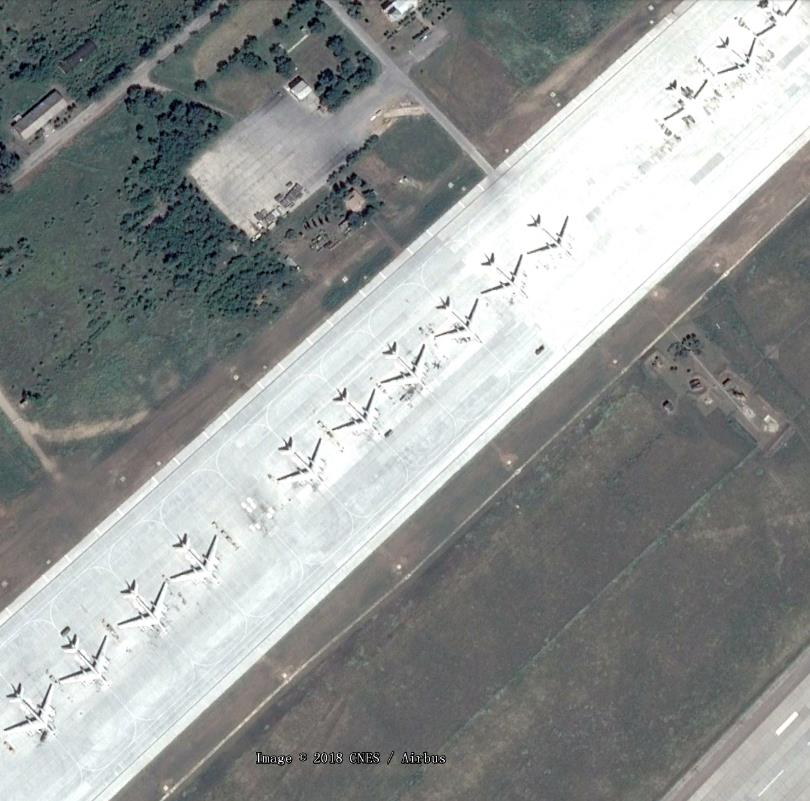A17: (168, 532, 223, 588), (664, 75, 717, 133), (2, 682, 55, 738), (117, 581, 170, 637), (58, 633, 110, 689), (277, 437, 327, 491), (379, 341, 428, 391), (480, 253, 528, 304), (714, 34, 761, 86), (526, 212, 574, 262), (331, 388, 379, 438), (756, 1, 806, 49), (434, 297, 483, 345)
